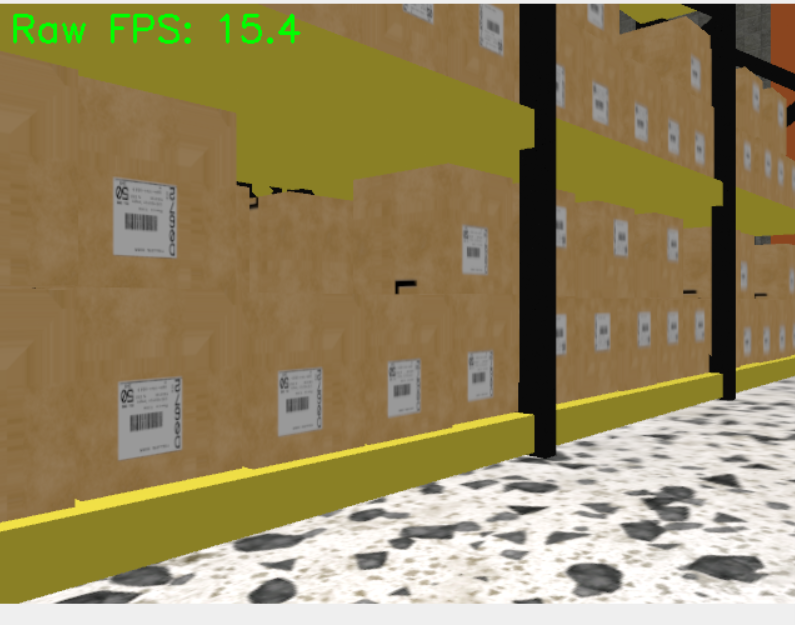barcode: (115, 375, 185, 459), (111, 178, 177, 259), (275, 368, 324, 438), (386, 359, 422, 416), (466, 351, 494, 400), (480, 2, 505, 56), (461, 224, 488, 273), (591, 81, 609, 125), (614, 219, 630, 259), (595, 312, 611, 352), (634, 102, 649, 144), (637, 311, 652, 347), (666, 228, 681, 263), (668, 118, 681, 157), (666, 310, 680, 346), (689, 57, 702, 94), (695, 131, 706, 166), (694, 311, 706, 342)
